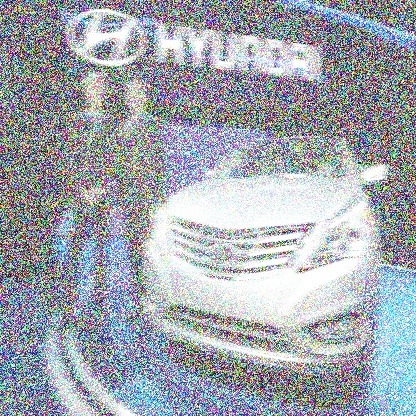Vehicle: (142, 130, 389, 381)
